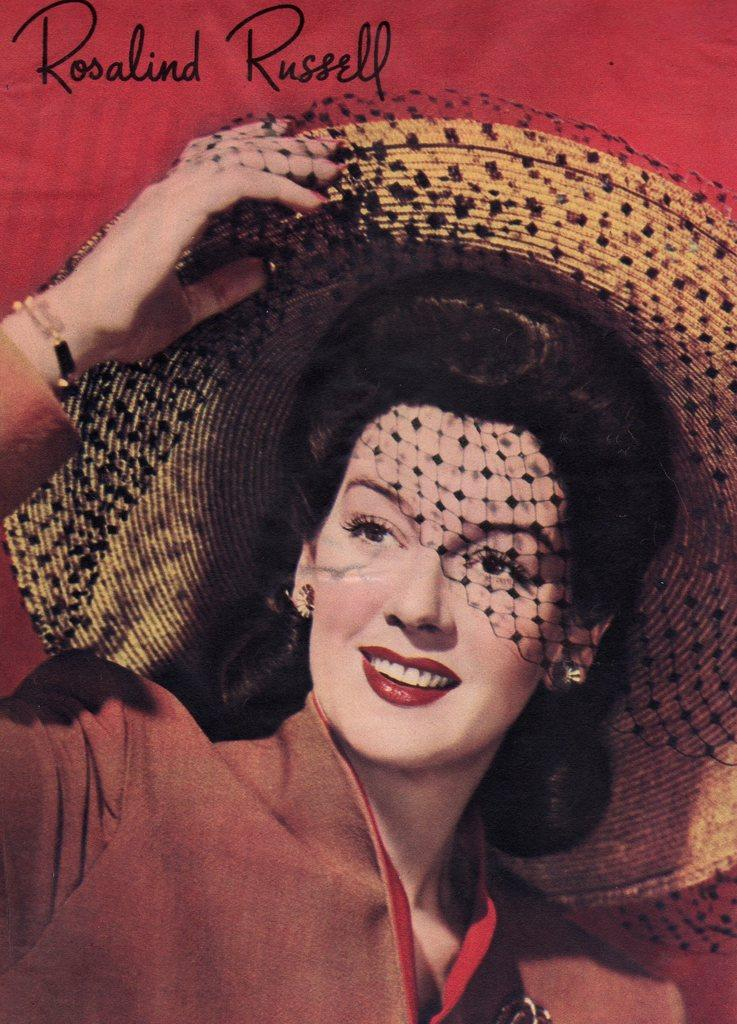Hat: (0, 96, 735, 1020)
